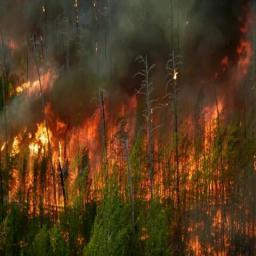Heavy smoke: (3, 0, 248, 157)
Medium fire: (0, 0, 255, 253)
